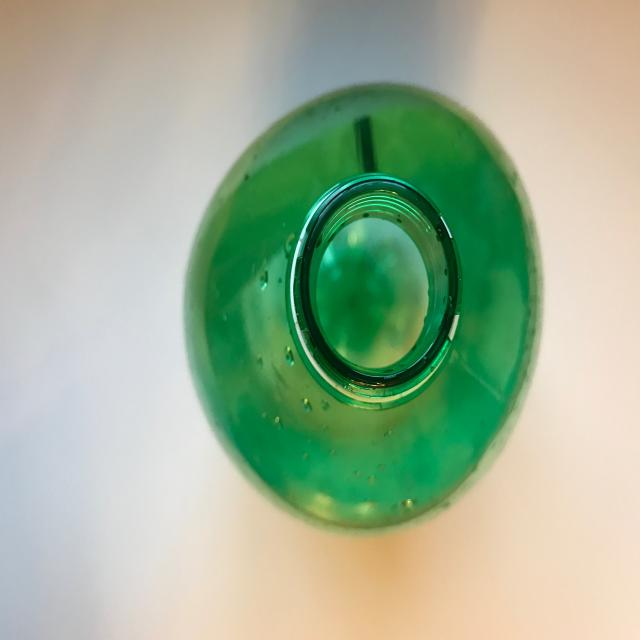plastic: (182, 80, 545, 532)
